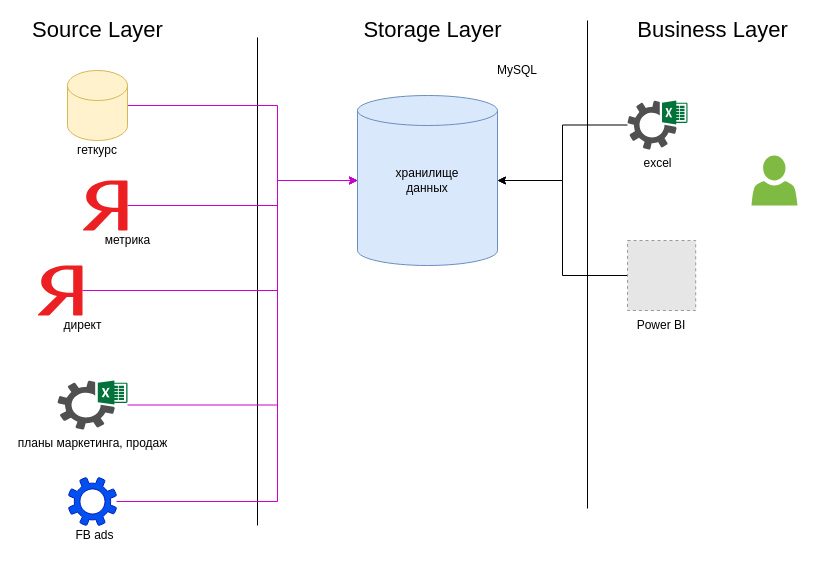
Some shapes in this 829 by 562 pixel diagram are drawn without their labels. Grey dashed boxes stand in for pictures. Each missing label, with the centre of its shape:
CRM: the point at 97,105
пользователь: the point at 774,180
